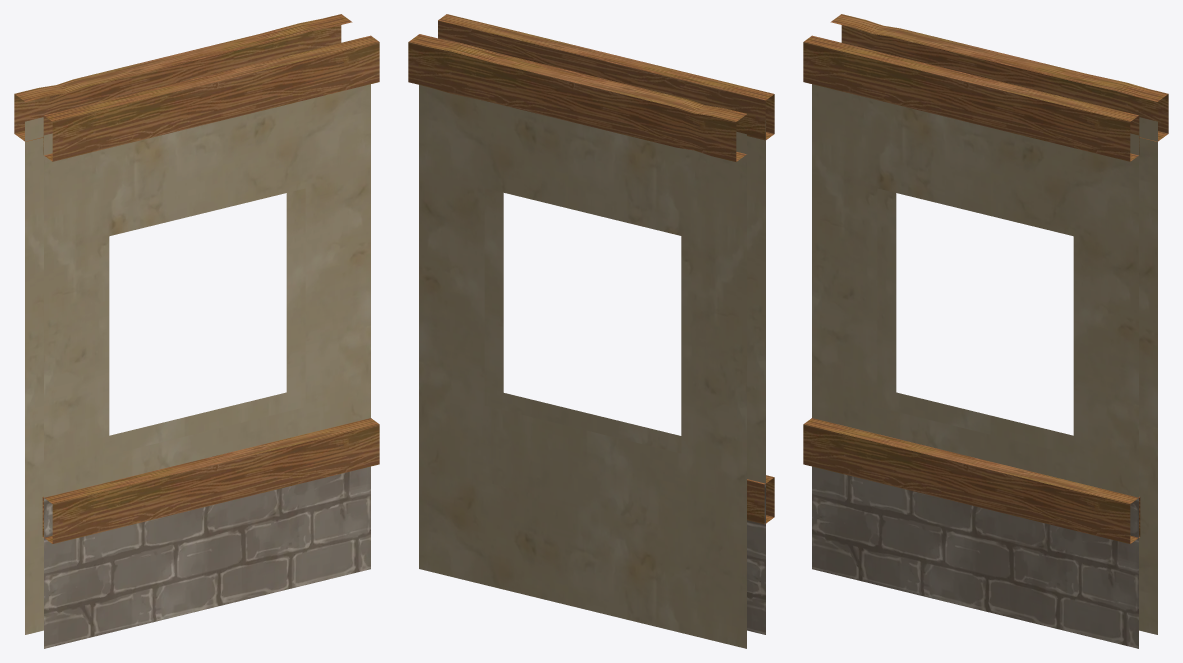
Rendered from Wall_Plaster_Window_Wide_Flat.gltf.
3 renders of one model, left to right at view 1: azimuth 30°, elevation 25°; view 2: azimuth 150°, elevation 25°; view 3: azimuth 330°, elevation 25°, orthographic.
Visible parts, largest first — view 1: Wall_Plaster_Window_Wide_Flat; view 2: Wall_Plaster_Window_Wide_Flat; view 3: Wall_Plaster_Window_Wide_Flat.
Part boxes in pixels (left/top/right/bottom): Wall_Plaster_Window_Wide_Flat: left=14, top=14, right=379, bottom=648; Wall_Plaster_Window_Wide_Flat: left=408, top=14, right=774, bottom=648; Wall_Plaster_Window_Wide_Flat: left=803, top=14, right=1168, bottom=648.
Size of the model in its own units: 2 by 3.12 by 0.4065.
3 materials, 3 textured.
